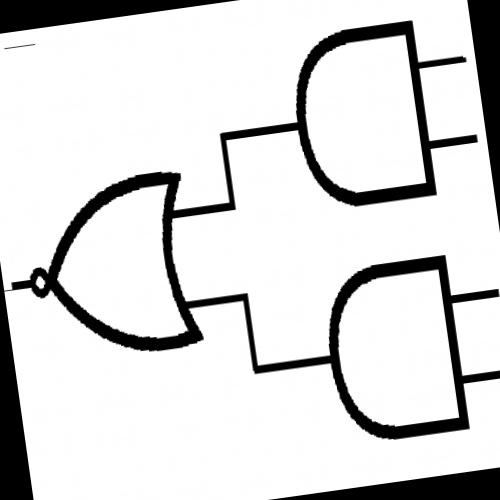and: (275, 7, 449, 221), (308, 244, 477, 452)
nor: (9, 157, 213, 378)
